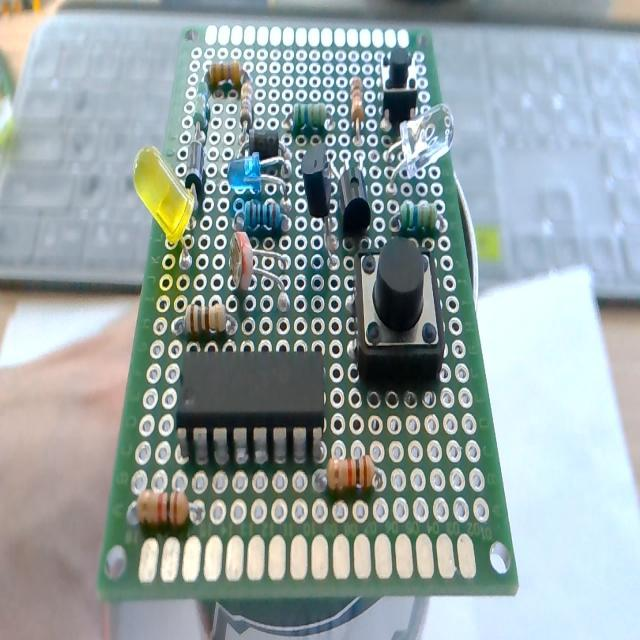IC: (176, 348, 324, 458)
cds: (229, 230, 290, 302)
diode: (185, 142, 206, 209), (248, 128, 279, 160)
led: (134, 144, 203, 274), (391, 100, 454, 185), (227, 151, 288, 195)
resistor: (138, 490, 189, 528), (328, 454, 377, 492), (238, 200, 286, 238), (397, 198, 439, 238), (185, 301, 227, 335), (237, 72, 254, 143), (292, 102, 328, 132), (208, 60, 244, 90), (350, 75, 364, 136)
switch: (353, 242, 445, 382), (381, 46, 417, 130)
transistor: (301, 144, 342, 268), (339, 163, 370, 236)
